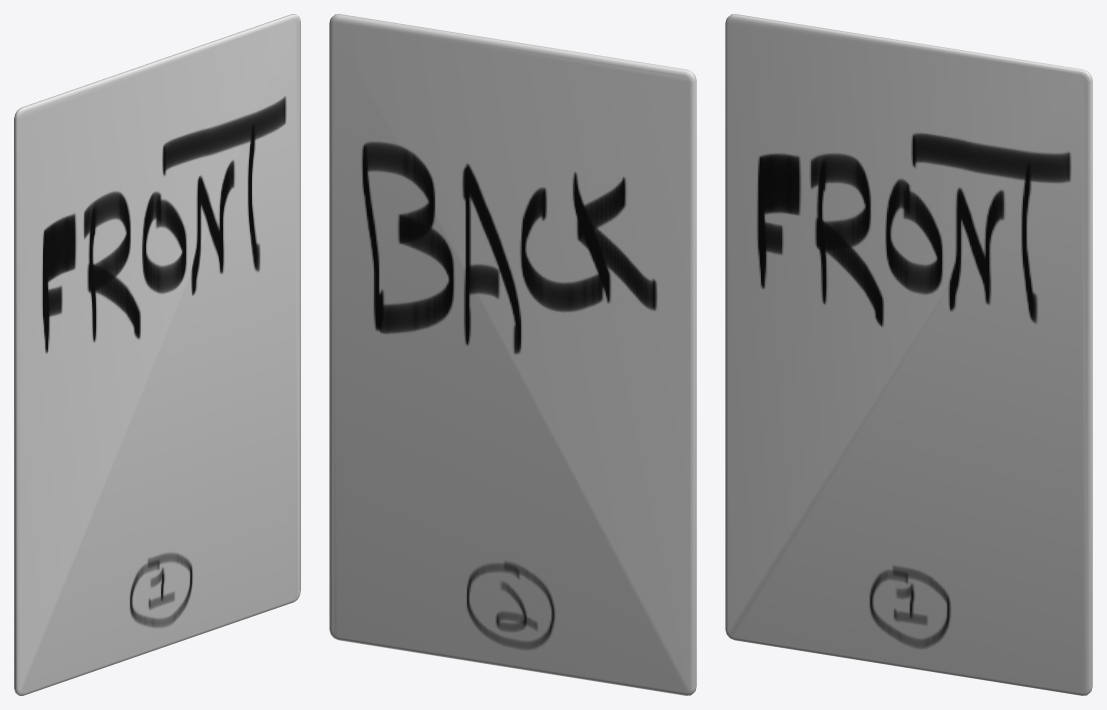
Rendered from card_01a.fbx.
3 views of the same model, side by side, from view 1: azimuth 30°, elevation 25°; view 2: azimuth 150°, elevation 25°; view 3: azimuth 330°, elevation 25° (orthographic). The views are drawn at different scales.
Visible parts, largest first — view 1: Cube; view 2: Cube; view 3: Cube.
Part boxes in pixels (x1,y1,x2,y2): Cube: (14, 14, 300, 695); Cube: (329, 14, 696, 695); Cube: (725, 14, 1092, 695).
Bounding box in the file's own units: 190 × 339 × 34.06.
1 material, 1 textured.
